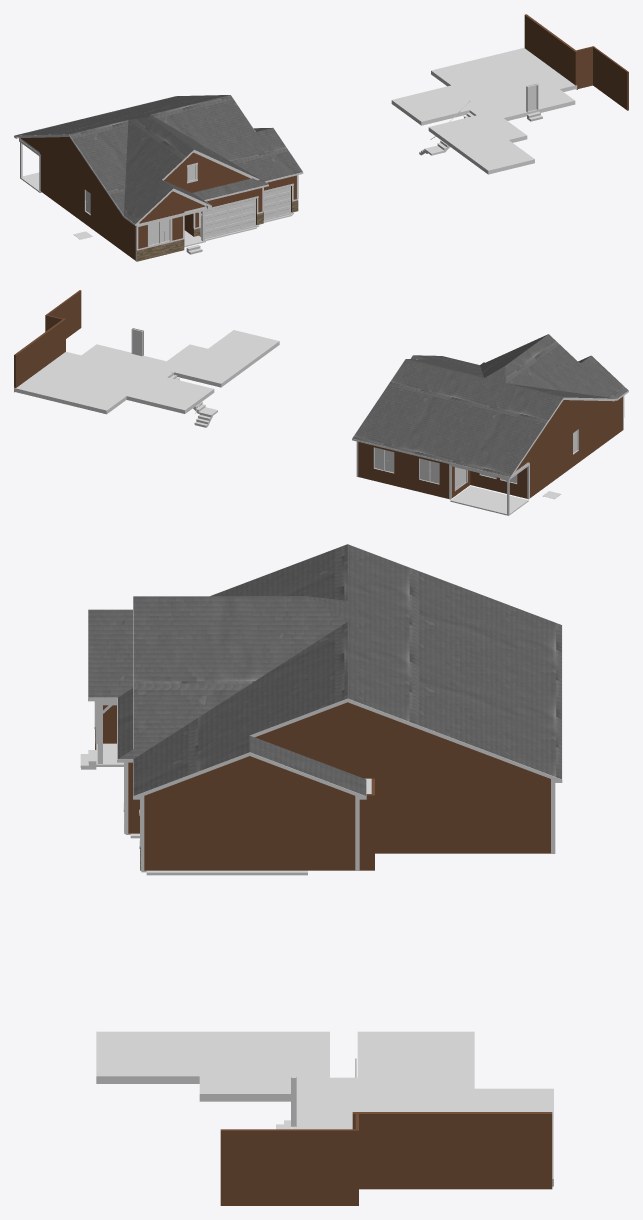
Rendered from 149-1637-dm-farmhouse.glb.
3 views of the same model, one above another, from view 1: azimuth 30°, elevation 25°; view 2: azimuth 150°, elevation 25°; view 3: azimuth 270°, elevation 25° (orthographic). The views are drawn at different scales.
Parts seen in each view (by area): view 1: Floor BSB TJI_11 7/8" - Sheathing_0.75" [4419446], Basic Roof Wood Rafter 4" - Asphalt Shingle - Insulated_c229, Basic Roof Wood Rafter 4" - Asphalt Shingle - Insulated_f4cf, Basic Wall BSB Exterior - Stud_5.5" - Sheathing_0.5" - _7fec, Basic Wall BSB Exterior - Stud_5.5" - Sheathing_0.5" - _2429, Basic Wall BSB Exterior - Stud_1.5" - Sheathing_0.5" - _7793, Basic Wall BSB Exterior - Stud_1.5" - Sheathing_0.5" - _7cf2, Traditional - BSB Exterior - Overhead Garage Door - Clo_32c0, Basic Wall BSB Exterior - Stud_3.5" - Sheathing_0.5" - _84c8, Fascia Fascia-Flat 1x6 w/12" Soffit Bd [4448799], Basic Wall BSB Exterior - Stud_5.5" - Sheathing_0.5" - _f0b5, Basic Wall BSB Exterior - Stud_1.5" - Sheathing_0.5" - _9bab (+7 smaller); view 2: Basic Roof Wood Rafter 4" - Asphalt Shingle - Insulated_c229, Floor BSB TJI_11 7/8" - Sheathing_0.75" [4419446], Basic Roof Wood Rafter 4" - Asphalt Shingle - Insulated_f4cf, Basic Wall BSB Exterior - Stud_5.5" - Sheathing_0.5" - _a904, Basic Wall BSB Exterior - Stud_5.5" - Sheathing_0.5" - _7fec, Basic Wall BSB Exterior - Stud_5.5" - Sheathing_0.5" - _2429, Basic Wall BSB Exterior - Stud_1.5" - Sheathing_0.5" - _7793, Floor BSB Concrete Slab - 4" - Slope Option [4257786], Basic Wall BSB Exterior - Stud_5.5" - Sheathing_0.5" - _f0b5, Basic Wall BSB Exterior - Stud_5.5" - Sheathing_0.5" - _3fe1, Basic Wall BSB Exterior - Stud_3.5" - Sheathing_0.5" - _84c8, Fascia Fascia-Flat 1x6 w/12" Soffit Bd [4448799] (+2 smaller); view 3: Basic Roof Wood Rafter 4" - Asphalt Shingle - Insulated_c229, Floor BSB TJI_11 7/8" - Sheathing_0.75" [4419446], Basic Roof Wood Rafter 4" - Asphalt Shingle - Insulated_f4cf, Basic Wall BSB Exterior - Stud_5.5" - Sheathing_0.5" - _2429, Basic Wall BSB Exterior - Stud_5.5" - Sheathing_0.5" - _1d05, Basic Wall BSB Exterior - Stud_3.5" - Sheathing_0.5" - _f008, Basic Wall BSB Exterior - Stud_1.5" - Sheathing_0.5" - _8663, Basic Wall BSB Exterior - Stud_3.5" - Sheathing_0.5" - _84c8, Basic Wall BSB Exterior - Stud_3.5" - Sheathing_0.5" - _ebcb, Basic Wall BSB Exterior - Stud_1.5" - Sheathing_0.5" - _16ec, Fascia Fascia-Flat 1x6 w/12" Soffit Bd [4448799], Trim - Corner Boards1 Trim - Corner Boards [4441713] (+2 smaller).
Part boxes in pixels (x1,y1,x2,y2): Floor BSB TJI_11 7/8" - Sheathing_0.75" [4419446]: (391,47,577,174); Basic Roof Wood Rafter 4" - Asphalt Shingle - Insulated_c229: (15,95,302,215); Basic Roof Wood Rafter 4" - Asphalt Shingle - Insulated_f4cf: (124,114,261,223); Basic Wall BSB Exterior - Stud_5.5" - Sheathing_0.5" - _7fec: (77,180,130,256); Basic Wall BSB Exterior - Stud_5.5" - Sheathing_0.5" - _2429: (524,14,577,89); Basic Wall BSB Exterior - Stud_1.5" - Sheathing_0.5" - _7793: (20,137,117,209); Basic Wall BSB Exterior - Stud_1.5" - Sheathing_0.5" - _7cf2: (164,152,250,192); Traditional - BSB Exterior - Overhead Garage Door - Clo_32c0: (200,198,256,239); Basic Wall BSB Exterior - Stud_3.5" - Sheathing_0.5" - _84c8: (592,46,628,110); Fascia Fascia-Flat 1x6 w/12" Soffit Bd [4448799]: (14,95,303,225); Basic Wall BSB Exterior - Stud_5.5" - Sheathing_0.5" - _f0b5: (39,152,69,211); Basic Wall BSB Exterior - Stud_1.5" - Sheathing_0.5" - _9bab: (139,191,205,223); Basic Roof Wood Rafter 4" - Asphalt Shingle - Insulated_c229: (352,355,615,476); Floor BSB TJI_11 7/8" - Sheathing_0.75" [4419446]: (14,330,279,414); Basic Roof Wood Rafter 4" - Asphalt Shingle - Insulated_f4cf: (480,334,628,398); Basic Wall BSB Exterior - Stud_5.5" - Sheathing_0.5" - _a904: (358,442,448,498); Basic Wall BSB Exterior - Stud_5.5" - Sheathing_0.5" - _7fec: (565,400,617,471); Basic Wall BSB Exterior - Stud_5.5" - Sheathing_0.5" - _2429: (14,318,65,392); Basic Wall BSB Exterior - Stud_1.5" - Sheathing_0.5" - _7793: (516,400,611,470); Floor BSB Concrete Slab - 4" - Slope Option [4257786]: (450,486,528,515); Basic Wall BSB Exterior - Stud_5.5" - Sheathing_0.5" - _f0b5: (526,440,557,497); Basic Wall BSB Exterior - Stud_5.5" - Sheathing_0.5" - _3fe1: (470,468,527,498); Basic Wall BSB Exterior - Stud_3.5" - Sheathing_0.5" - _84c8: (45,290,81,338); Fascia Fascia-Flat 1x6 w/12" Soffit Bd [4448799]: (352,336,628,478); Basic Roof Wood Rafter 4" - Asphalt Shingle - Insulated_c229: (133,544,561,795); Floor BSB TJI_11 7/8" - Sheathing_0.75" [4419446]: (96,1031,553,1186); Basic Roof Wood Rafter 4" - Asphalt Shingle - Insulated_f4cf: (88,596,347,758); Basic Wall BSB Exterior - Stud_5.5" - Sheathing_0.5" - _2429: (352,1112,552,1189); Basic Wall BSB Exterior - Stud_5.5" - Sheathing_0.5" - _1d05: (375,778,550,853); Basic Wall BSB Exterior - Stud_3.5" - Sheathing_0.5" - _f008: (220,794,374,870); Basic Wall BSB Exterior - Stud_1.5" - Sheathing_0.5" - _8663: (255,702,549,778); Basic Wall BSB Exterior - Stud_3.5" - Sheathing_0.5" - _84c8: (220,1129,358,1205); Basic Wall BSB Exterior - Stud_3.5" - Sheathing_0.5" - _ebcb: (144,795,220,870); Basic Wall BSB Exterior - Stud_1.5" - Sheathing_0.5" - _16ec: (146,756,352,795); Fascia Fascia-Flat 1x6 w/12" Soffit Bd [4448799]: (88,544,562,796); Trim - Corner Boards1 Trim - Corner Boards [4441713]: (95,705,555,870).
Size of the model in its own units: 45.77 by 9.99 by 18.51.
3 materials, 2 textured.
